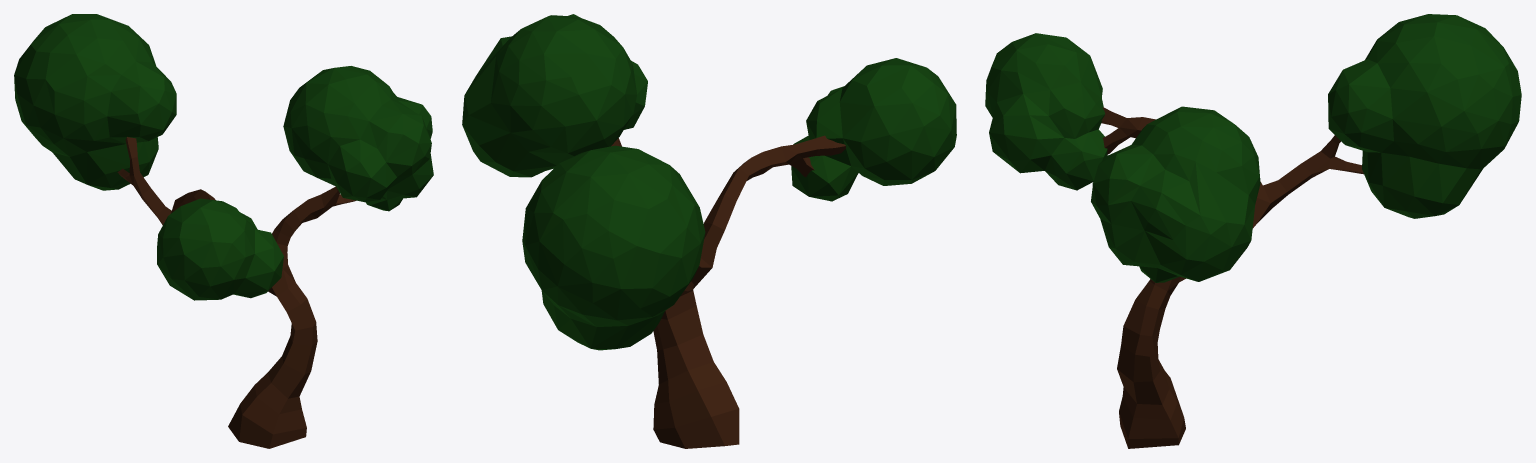
File: medium-tree.obj
3 renders of one model, left to right at view 1: azimuth 30°, elevation 25°; view 2: azimuth 150°, elevation 25°; view 3: azimuth 270°, elevation 25°, orthographic. The views are drawn at different scales.
Visible parts, largest first — view 1: LowPoly_Tree_03_lowpoly_tree_01_Plane.013; view 2: LowPoly_Tree_03_lowpoly_tree_01_Plane.013; view 3: LowPoly_Tree_03_lowpoly_tree_01_Plane.013.
Part boxes in pixels (<box>): LowPoly_Tree_03_lowpoly_tree_01_Plane.013: <box>14,14,433,448</box>; LowPoly_Tree_03_lowpoly_tree_01_Plane.013: <box>462,14,956,448</box>; LowPoly_Tree_03_lowpoly_tree_01_Plane.013: <box>985,14,1521,448</box>.
Bounding box in the file's own units: 3.28 × 3.28 × 4.16.
